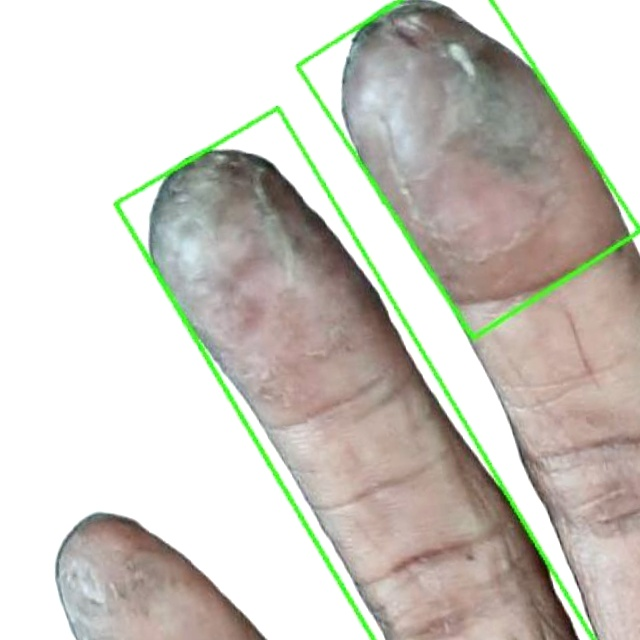Contact Dermatitis: (0, 0, 639, 639), (114, 106, 592, 639), (296, 0, 639, 338)
